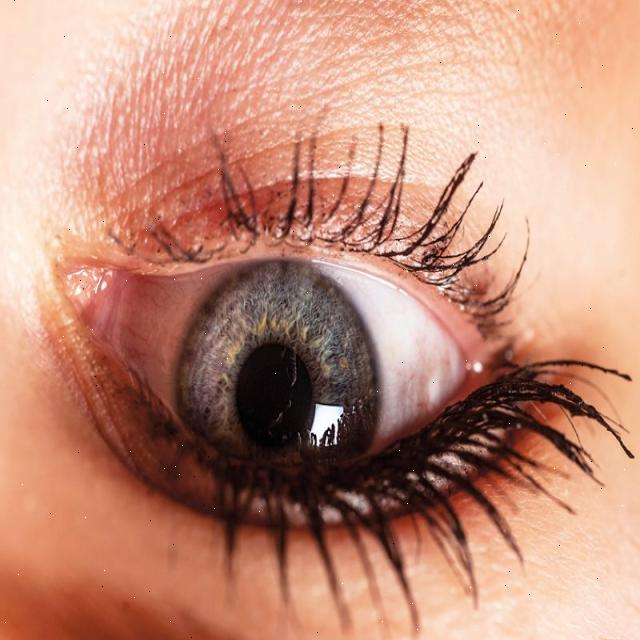Normal: (177, 248, 378, 532)
